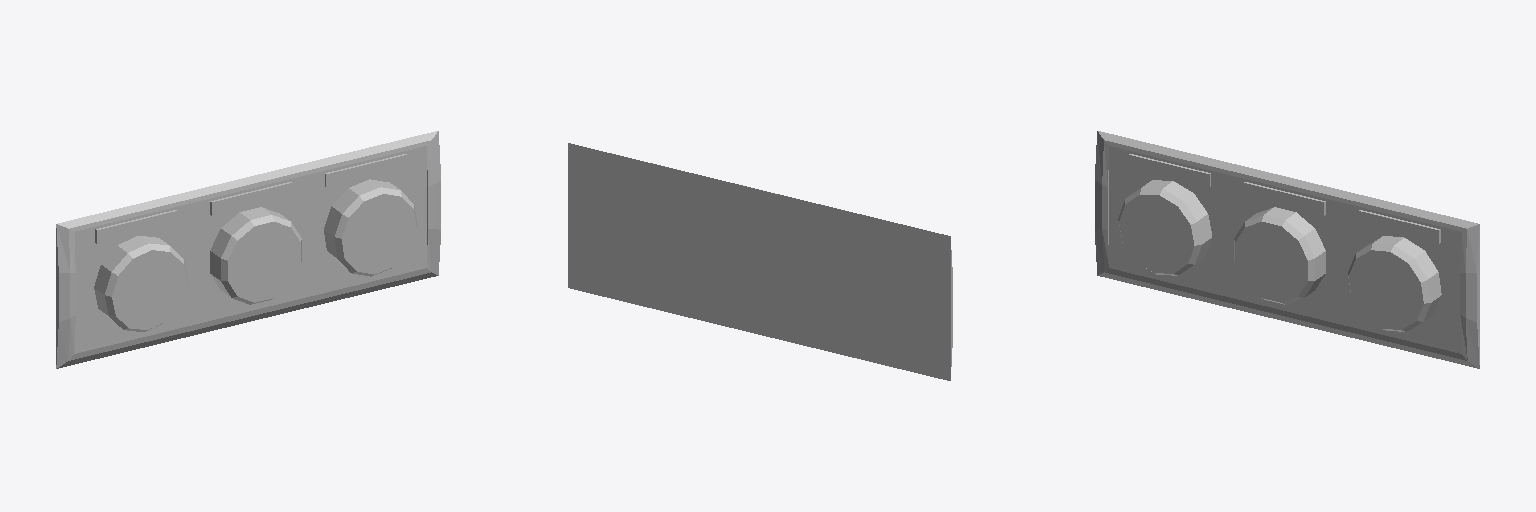
The model's file is obj_interactive_analogcontroller.obj.
The picture shows the model from 3 angles: view 1: azimuth 30°, elevation 25°; view 2: azimuth 150°, elevation 25°; view 3: azimuth 330°, elevation 25°; orthographic projection.
Parts seen in each view (by area): view 1: _submesh0_extract3__submesh0_extract3_auv.000; view 2: _submesh0_extract3__submesh0_extract3_auv.000; view 3: _submesh0_extract3__submesh0_extract3_auv.000.
Part boxes in pixels (left/top/right/bottom): _submesh0_extract3__submesh0_extract3_auv.000: left=56, top=131, right=440, bottom=368; _submesh0_extract3__submesh0_extract3_auv.000: left=568, top=143, right=952, bottom=380; _submesh0_extract3__submesh0_extract3_auv.000: left=1095, top=131, right=1479, bottom=368.
Bounding box in the file's own units: 2 × 0.7256 × 0.1539.